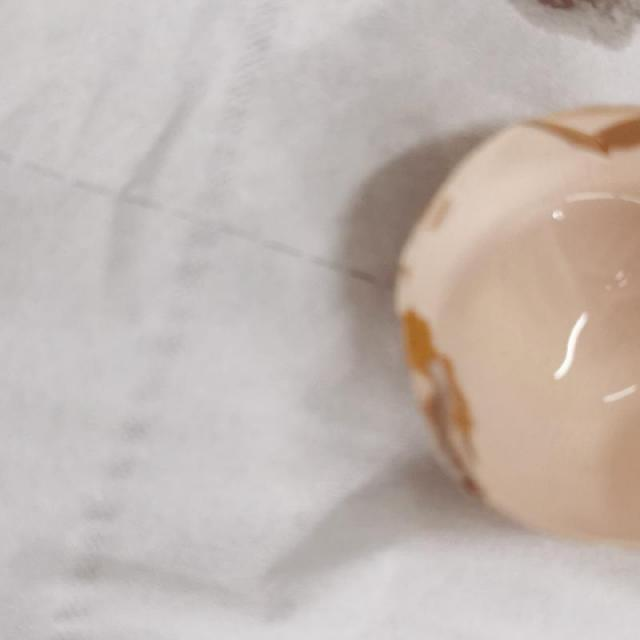egg shell: (392, 110, 640, 532)
